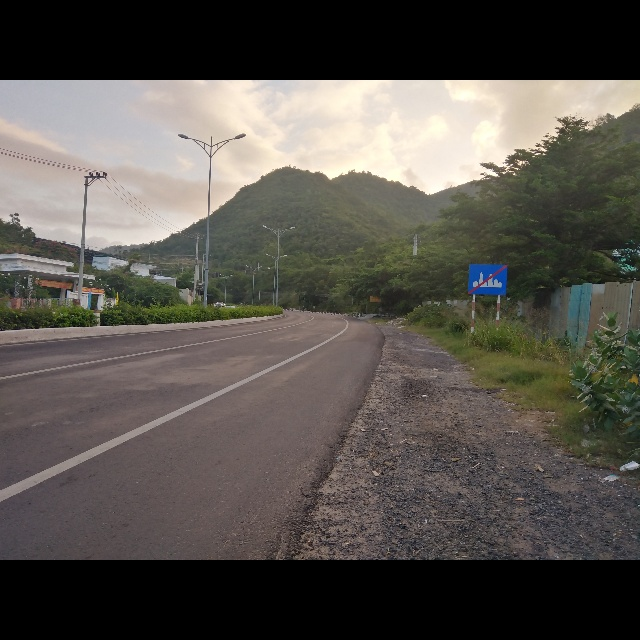Hết khu đông dân cư: (466, 263, 508, 296)
